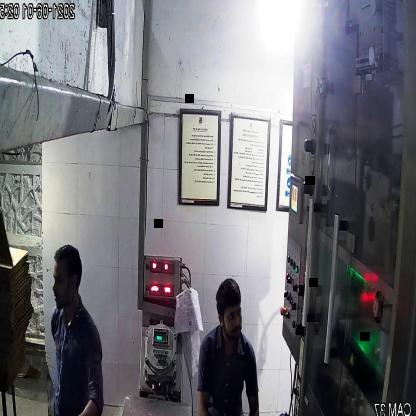no_goggles: (46, 265, 88, 296), (216, 303, 246, 329)
